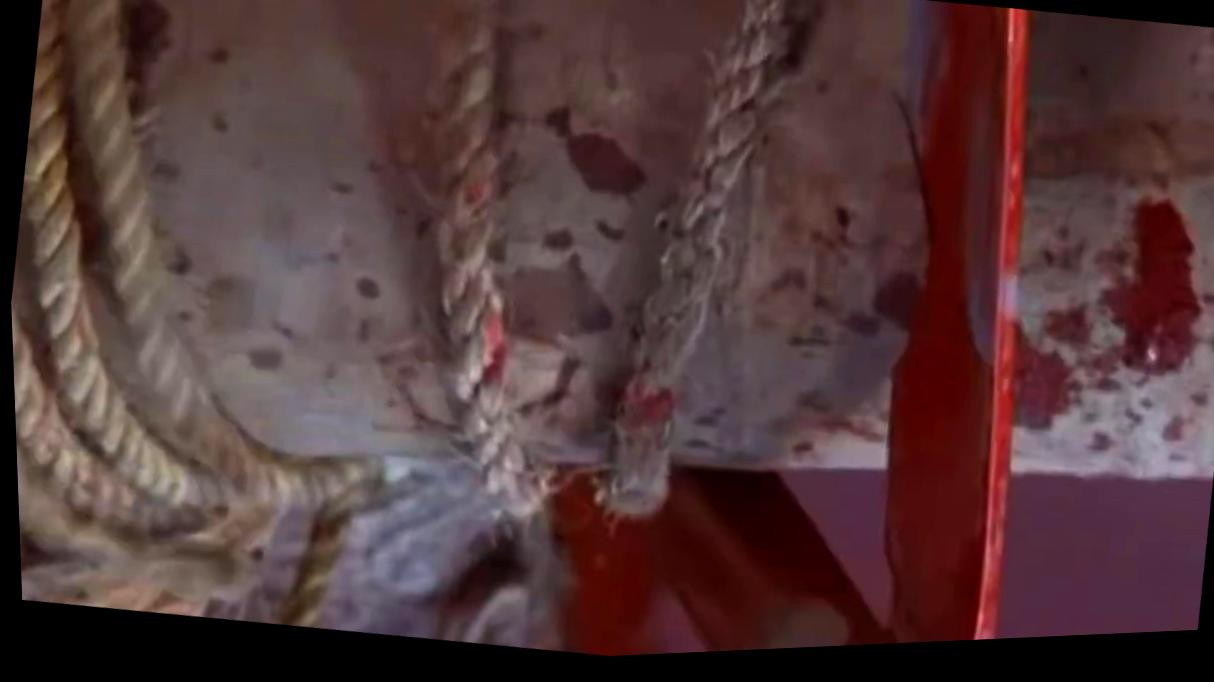Fire: (549, 10, 1214, 662)
